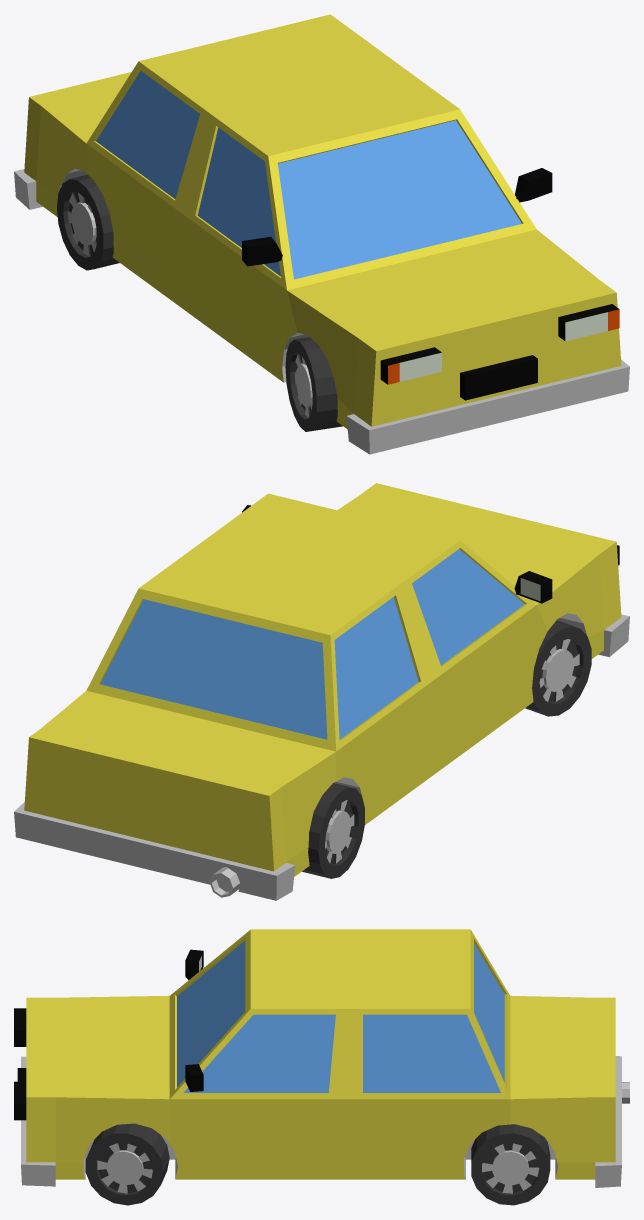
File: car_a2.glb
3 views of the same model, one above another, from view 1: azimuth 30°, elevation 25°; view 2: azimuth 150°, elevation 25°; view 3: azimuth 270°, elevation 25° (orthographic). The views are drawn at different scales.
Parts seen in each view (by area): view 1: Cube, Back_both, FrontRight, FrontLights, numberPlate, BackMirrors; view 2: Cube, FrontRight, Back_both, BackMirrors, Exhaust; view 3: Cube, FrontLeft, Back_both, FrontLights, BackMirrors.
Boxes of the visible parts, x1,y1,x2,y2 form: Cube: (14,14,629,454); Back_both: (57,174,119,270); FrontRight: (285,337,342,431); FrontLights: (380,304,619,384); numberPlate: (460,355,537,400); BackMirrors: (242,168,552,266); Cube: (14,483,629,900); FrontRight: (525,620,591,716); Back_both: (302,783,364,878); BackMirrors: (242,505,552,603); Exhaust: (209,867,240,897); Cube: (21,929,621,1187); FrontLeft: (85,1123,169,1205); Back_both: (471,1124,550,1205); FrontLights: (14,1008,26,1120); BackMirrors: (185,949,203,1091).
Bounding box in the file's own units: 2.44 × 1.64 × 5.03.
